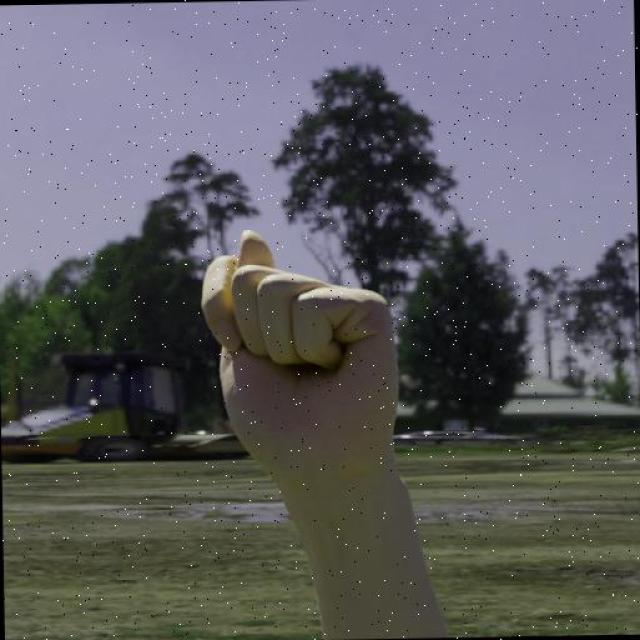T: (198, 224, 413, 494)
